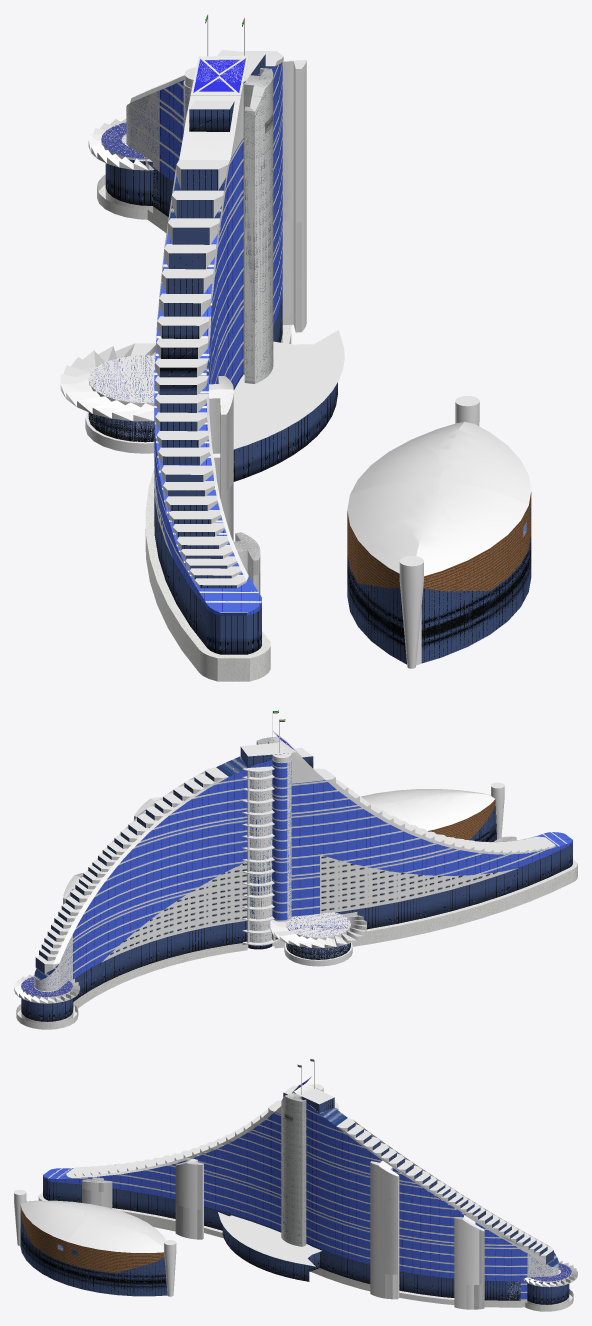
File: Jumeira-beach-hotel.dae
3 renders of one model, top to bottom at view 1: azimuth 30°, elevation 25°; view 2: azimuth 150°, elevation 25°; view 3: azimuth 270°, elevation 25°, orthographic. The views are drawn at different scales.
Parts seen in each view (by area): view 1: SketchUp (×22), group_1 (×2), group_2; view 2: SketchUp (×18), group_3 (×2), group_1 (×2), group_2 (×2), group_20; view 3: SketchUp (×31), group_2.
Part boxes in pixels (x1=…): SketchUp (×22): x1=85, y1=55, x2=531, y2=681; group_1 (×2): x1=60, y1=343, x2=155, y2=421; group_2: x1=88, y1=118, x2=154, y2=170; SketchUp (×18): x1=16, y1=711, x2=577, y2=1029; group_3 (×2): x1=247, y1=769, x2=272, y2=943; group_1 (×2): x1=270, y1=912, x2=366, y2=947; group_2 (×2): x1=14, y1=974, x2=79, y2=1003; group_20: x1=287, y1=760, x2=291, y2=920; SketchUp (×31): x1=14, y1=1059, x2=573, y2=1311; group_2: x1=523, y1=1261, x2=577, y2=1287.
Bounding box in the file's own units: 5495 × 11025 × 4471.
19 materials, 9 textured.
